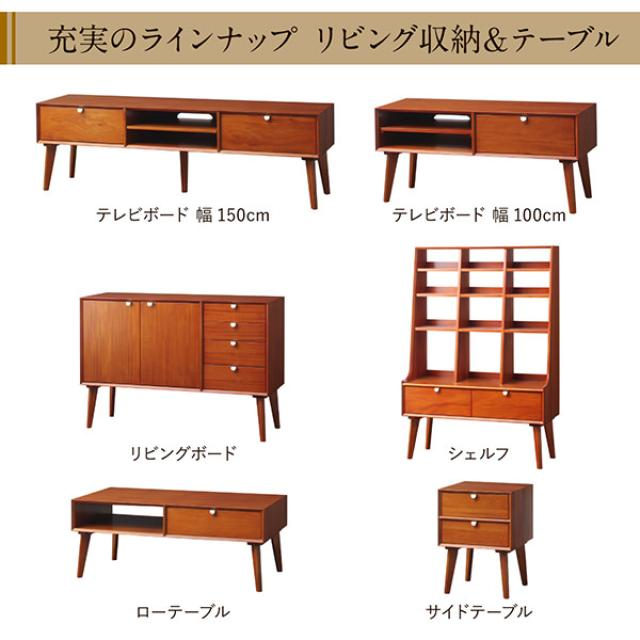vintage shelf: (33, 84, 350, 211), (402, 238, 563, 444), (371, 74, 604, 215), (82, 288, 289, 437), (66, 489, 292, 593), (435, 482, 530, 596)
